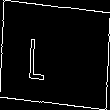L_N: (45, 28, 65, 82)
